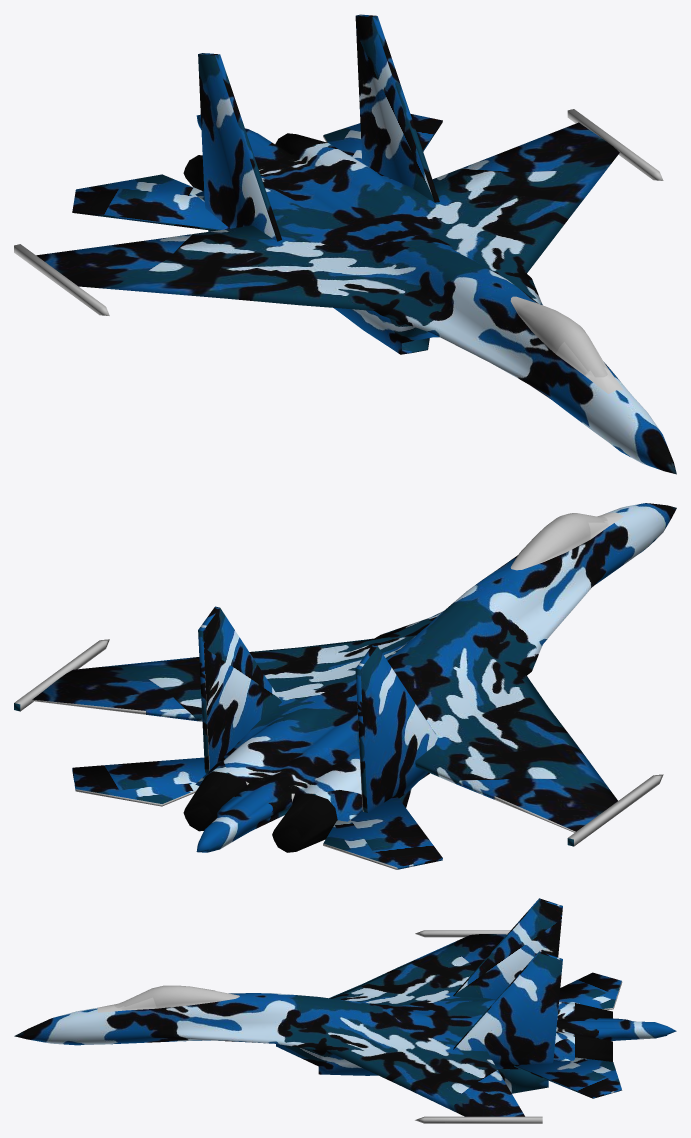
The model's file is Sukhoi.fbx.
The picture shows the model from 3 angles, top to bottom: view 1: azimuth 30°, elevation 25°; view 2: azimuth 150°, elevation 25°; view 3: azimuth 270°, elevation 25°; orthographic projection. The views are drawn at different scales.
Parts seen in each view (by area): view 1: Su-27_001; view 2: Su-27_001; view 3: Su-27_001.
Part boxes in pixels (left/top/right/bottom): Su-27_001: left=14, top=14, right=676, bottom=474; Su-27_001: left=14, top=503, right=676, bottom=869; Su-27_001: left=14, top=898, right=676, bottom=1123.
Size of the model in its own units: 9.18 by 3.2 by 13.64.
